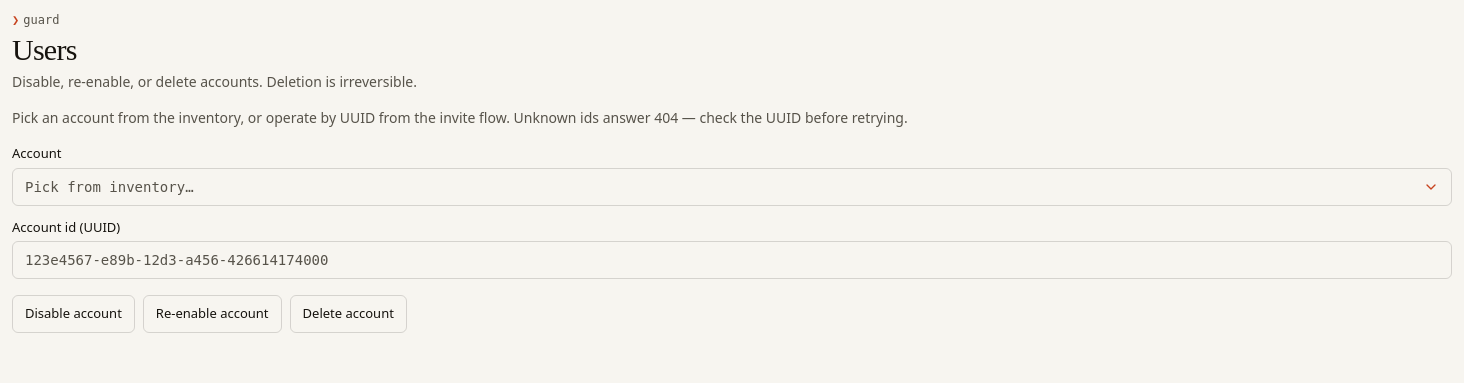
UsersPage › picks the account from the user inventory
Click the dropdown named "account" at [109, 186], box [12,168,1452,206]
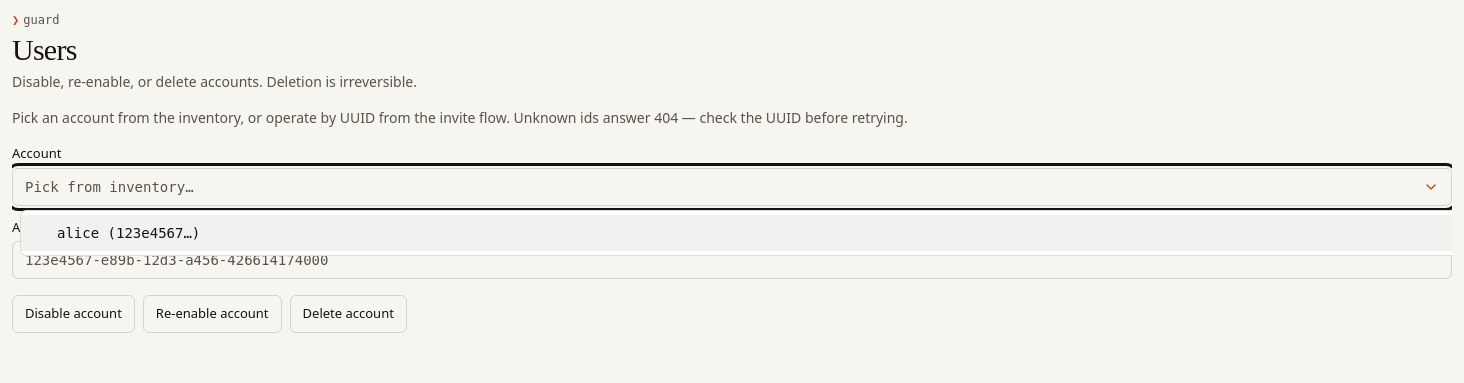
Click the option "alice (123e4567…)" at [129, 232], box [21,214,1452,250]
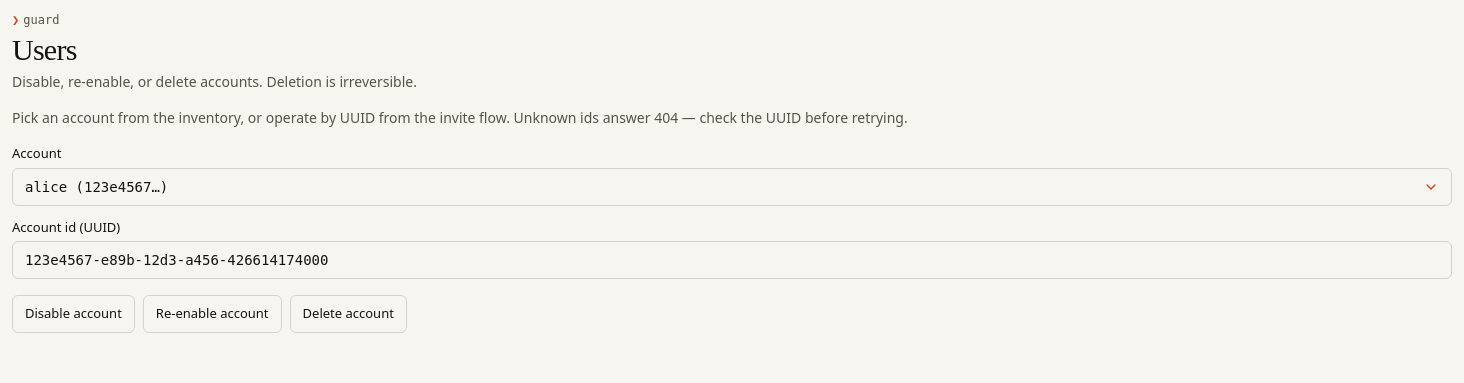
Now the field labelled "Account id (UUID)" holds "123e4567-e89b-12d3-a456-426614174000", box [12,241,1452,279]
Click the button "Disable account" at [73, 314], box [12,295,135,332]
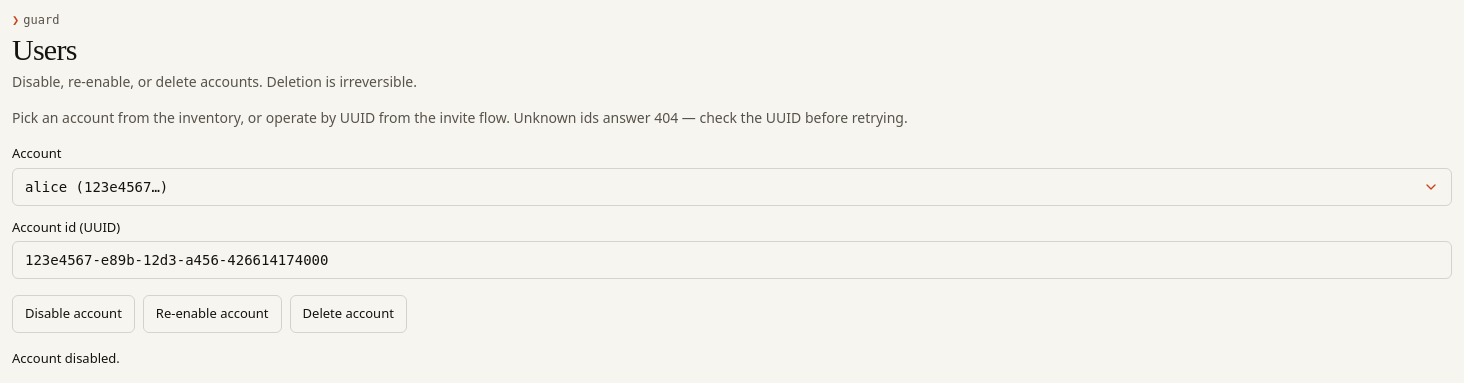
Now the message shows "Account disabled", box [12,348,120,366]
